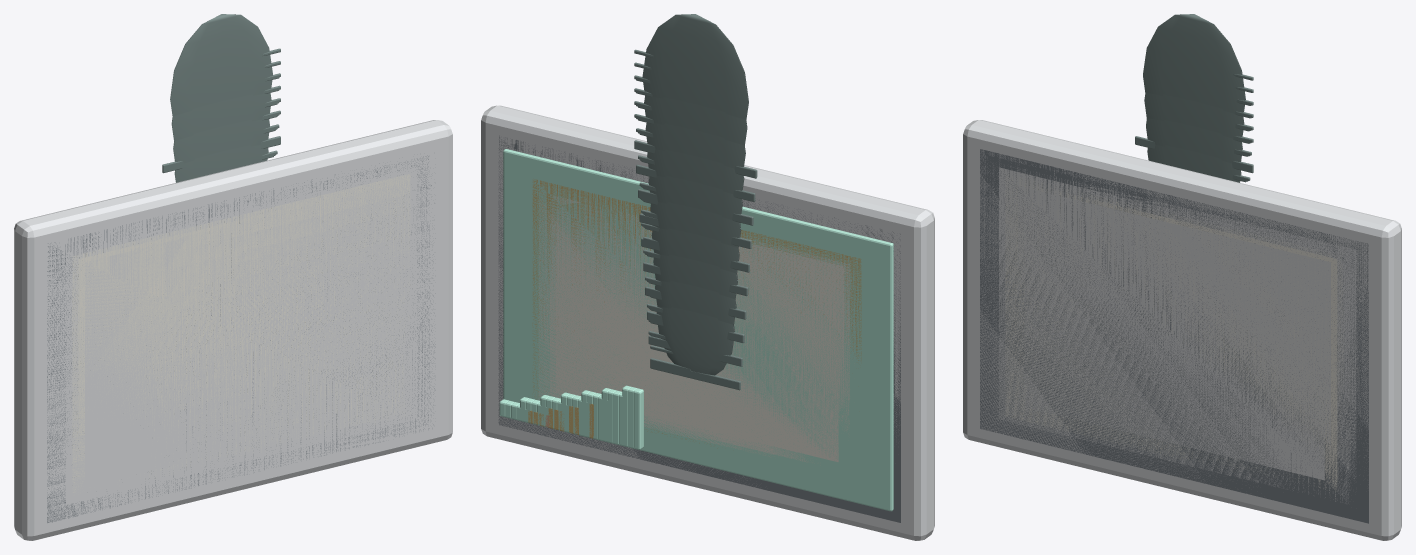
The model's file is Gear09.fbx.
3 views of the same model, side by side, from view 1: azimuth 30°, elevation 25°; view 2: azimuth 150°, elevation 25°; view 3: azimuth 330°, elevation 25° (orthographic). The views are drawn at different scales.
Parts seen in each view (by area): view 1: Gear09_V10_Platinum, Gear09_V9_Platinum, Gear09_V3_Linen, Gear09_V5_Platinum, Gear09_V2_Platinum, Gear09_V4_Linen, Gear09_V10_Ink, Gear09_V1_Platinum, Gear09_V8_Graphite, Gear09_V9_Ink, Gear09_V8_Ink, Gear09_V7_Ink (+1 smaller); view 2: Gear09_V10_Platinum, Gear09_V1_Linen, Gear09_V8_Glow, Gear09_V10_Glow, Gear09_V2_Linen, Gear09_V6_Glow, Gear09_V10_Ink, Gear09_V5_Gold, Gear09_V8_Graphite, Gear09_V7_Glow, Gear09_V9_Glow, Gear09_V1_Ink (+12 smaller); view 3: Gear09_V8_Graphite, Gear09_V10_Platinum, Gear09_V1_Platinum, Gear09_V5_Platinum, Gear09_V2_Platinum, Gear09_V3_Linen, Gear09_V7_Graphite, Gear09_V9_Platinum, Gear09_V10_Ink, Gear09_V4_Linen, Gear09_V6_Platinum, Gear09_V9_Ink (+2 smaller).
Part boxes in pixels (bbox=[...]): Gear09_V10_Platinum: bbox=[14, 120, 452, 540]; Gear09_V9_Platinum: bbox=[40, 143, 442, 528]; Gear09_V3_Linen: bbox=[78, 201, 404, 469]; Gear09_V5_Platinum: bbox=[66, 168, 416, 504]; Gear09_V2_Platinum: bbox=[85, 228, 389, 486]; Gear09_V4_Linen: bbox=[72, 174, 410, 492]; Gear09_V10_Ink: bbox=[162, 14, 280, 173]; Gear09_V1_Platinum: bbox=[91, 192, 391, 471]; Gear09_V8_Graphite: bbox=[47, 163, 435, 522]; Gear09_V9_Ink: bbox=[171, 76, 279, 144]; Gear09_V8_Ink: bbox=[173, 103, 277, 163]; Gear09_V7_Ink: bbox=[174, 129, 275, 182]; Gear09_V10_Platinum: bbox=[481, 105, 934, 540]; Gear09_V1_Linen: bbox=[555, 204, 838, 461]; Gear09_V8_Glow: bbox=[511, 163, 878, 499]; Gear09_V10_Glow: bbox=[499, 149, 893, 511]; Gear09_V2_Linen: bbox=[550, 195, 844, 452]; Gear09_V6_Glow: bbox=[522, 173, 867, 463]; Gear09_V10_Ink: bbox=[634, 14, 757, 178]; Gear09_V5_Gold: bbox=[528, 179, 861, 448]; Gear09_V8_Graphite: bbox=[498, 135, 900, 522]; Gear09_V7_Glow: bbox=[516, 169, 872, 477]; Gear09_V9_Glow: bbox=[505, 157, 884, 504]; Gear09_V1_Ink: bbox=[650, 296, 740, 390]; Gear09_V8_Graphite: bbox=[980, 149, 1368, 523]; Gear09_V10_Platinum: bbox=[963, 120, 1401, 540]; Gear09_V1_Platinum: bbox=[1024, 197, 1324, 480]; Gear09_V5_Platinum: bbox=[999, 167, 1349, 503]; Gear09_V2_Platinum: bbox=[1018, 186, 1330, 457]; Gear09_V3_Linen: bbox=[1011, 180, 1337, 491]; Gear09_V7_Graphite: bbox=[986, 155, 1362, 492]; Gear09_V9_Platinum: bbox=[973, 144, 1375, 529]; Gear09_V10_Ink: bbox=[1135, 14, 1253, 173]; Gear09_V4_Linen: bbox=[1005, 176, 1343, 470]; Gear09_V6_Platinum: bbox=[992, 165, 1356, 490]; Gear09_V9_Ink: bbox=[1144, 92, 1251, 155].
Size of the model in its own units: 109 by 112 by 10.44.
